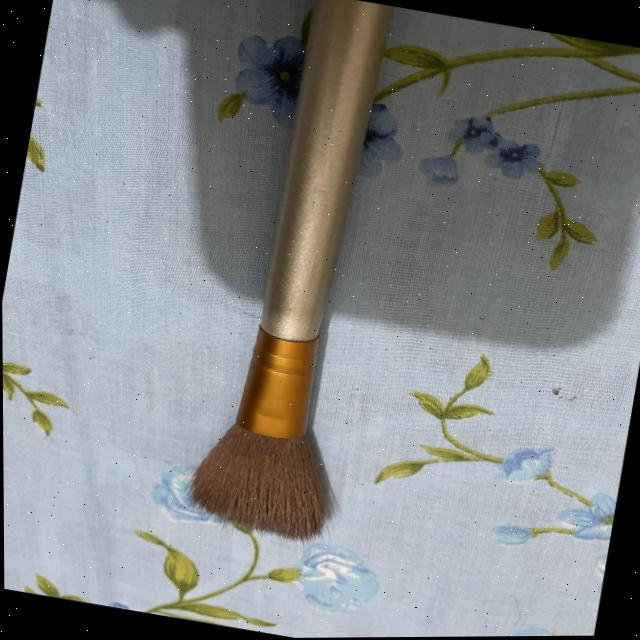brush: (152, 0, 463, 563)
